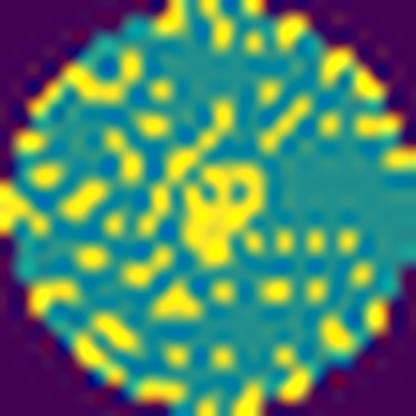Center: (132, 101, 266, 273)
